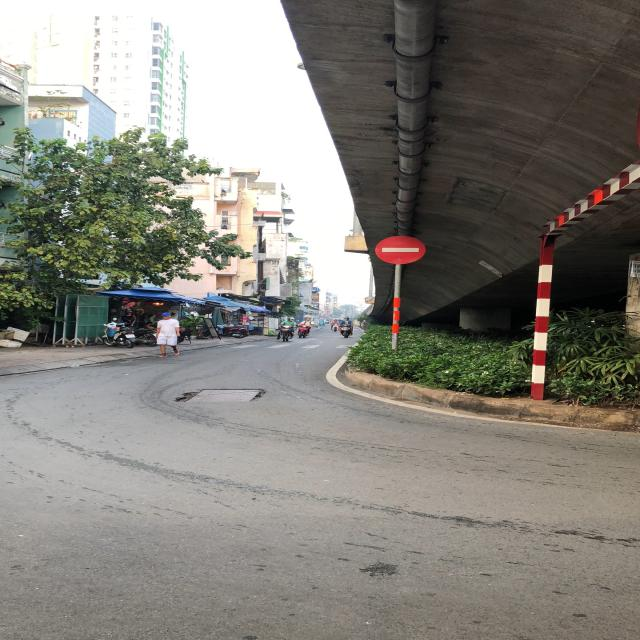Bien bao cam di nguoc chieu: (372, 231, 431, 267)
